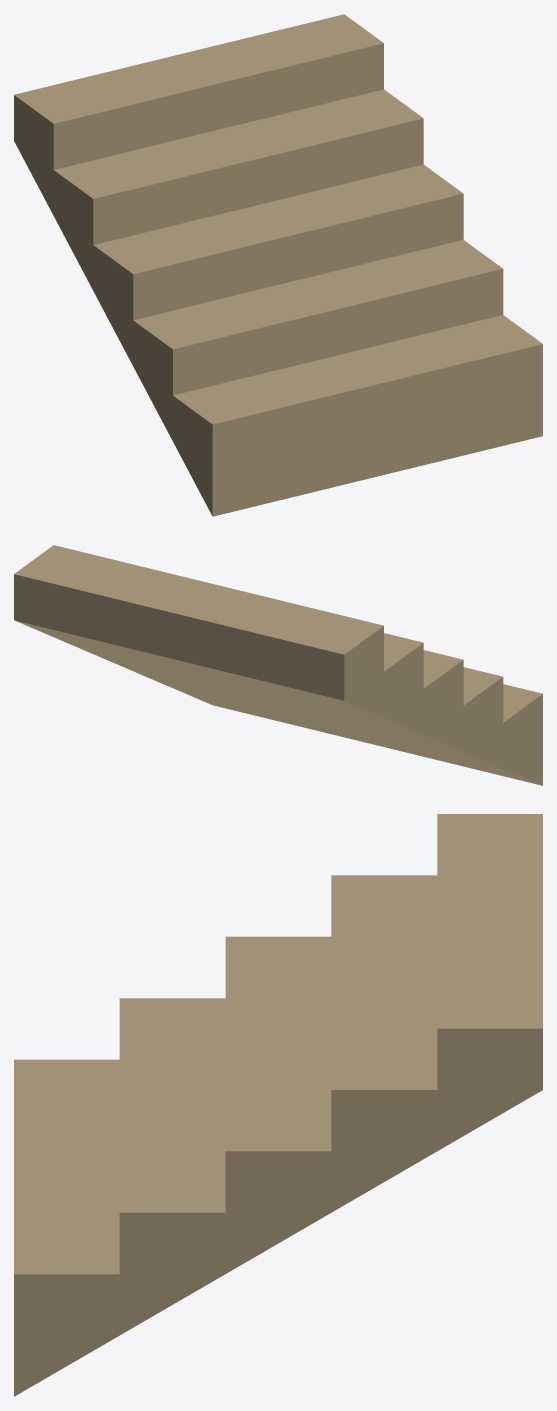
Rendered from MH_Stair_5_Steps.fbx.
3 views of the same model, one above another, from view 1: azimuth 30°, elevation 25°; view 2: azimuth 150°, elevation 25°; view 3: azimuth 270°, elevation 25° (orthographic). The views are drawn at different scales.
Parts seen in each view (by area): view 1: Body; view 2: Body; view 3: Body.
Boxes of the visible parts, box(x1,y1,x2,y2) form: Body: box(14, 14, 542, 516); Body: box(14, 545, 542, 785); Body: box(14, 814, 542, 1396).
Bounding box in the file's own units: 1.2 × 0.96 × 1.25.
